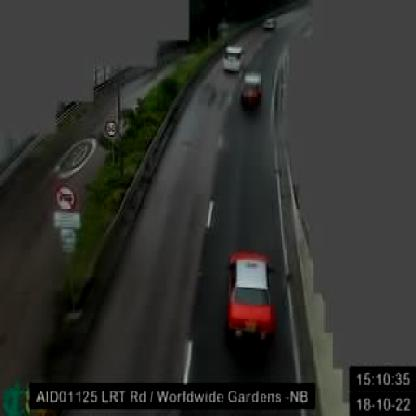Car: (224, 247, 280, 346), (240, 70, 265, 111), (221, 43, 245, 75), (261, 16, 277, 32)
